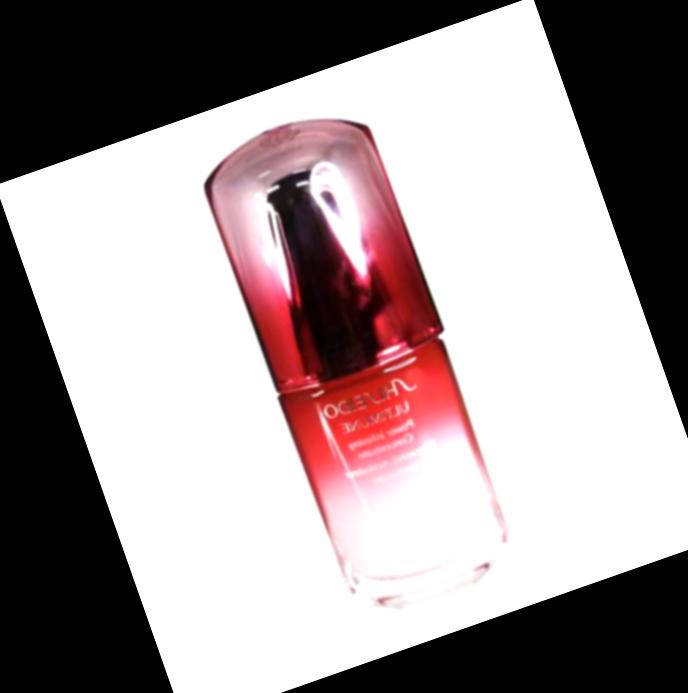cosmetic: (187, 91, 528, 626)
